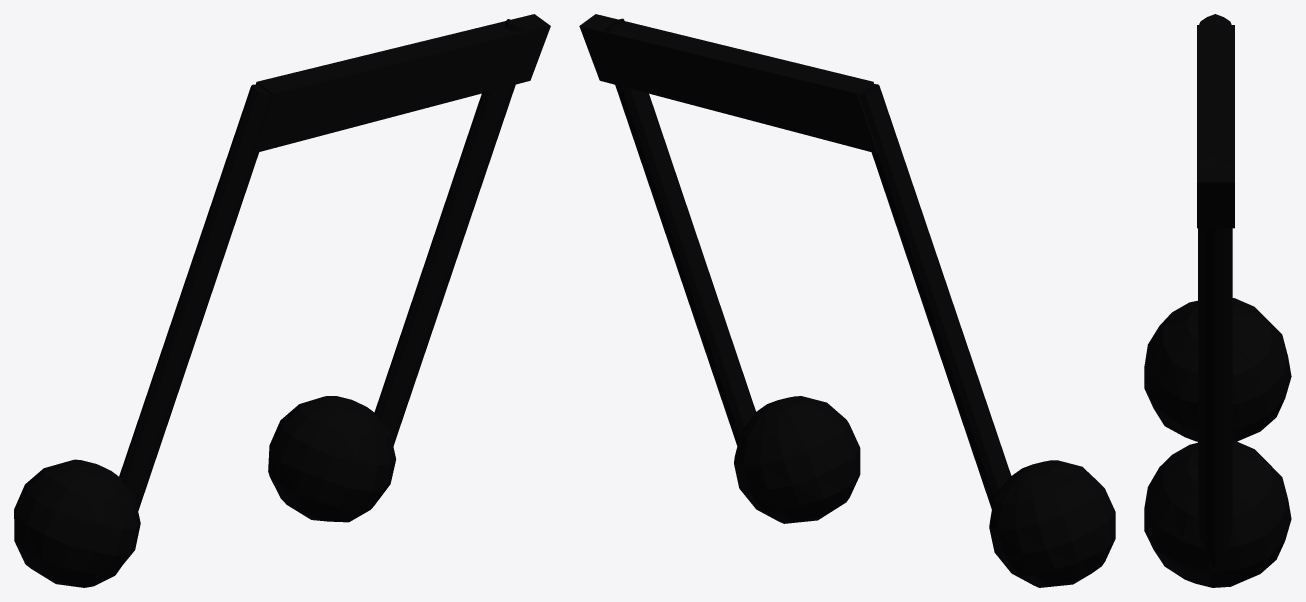
The model's file is Note.glb.
The picture shows the model from 3 angles, left to right: view 1: azimuth 30°, elevation 25°; view 2: azimuth 150°, elevation 25°; view 3: azimuth 270°, elevation 25°; orthographic projection. The views are drawn at different scales.
Parts seen in each view (by area): view 1: Note; view 2: Note; view 3: Note.
Boxes of the visible parts, box(x1,y1,x2,y2) form: Note: box(14, 14, 550, 587); Note: box(579, 14, 1115, 587); Note: box(1144, 14, 1291, 587).
Size of the model in its own units: 280 by 233 by 59.12.
1 material, 1 textured.
